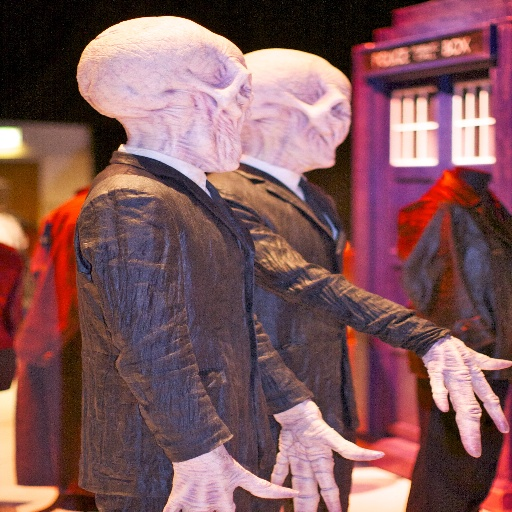hand: (420, 330, 505, 495)
